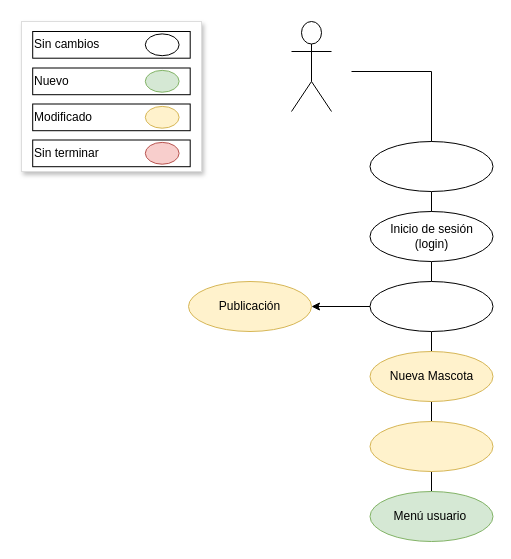
The diagram is 511 pixels wide and 559 high, and some of its shapes have lost their labels. Here are the shapes that lost their labels. From the top down, the centre of each, then its label:
At (311,66): "Usuario".
At (431,166): "Registro de usuario".
At (431,306): "Pantalla principal".
At (431,446): "Administración".
